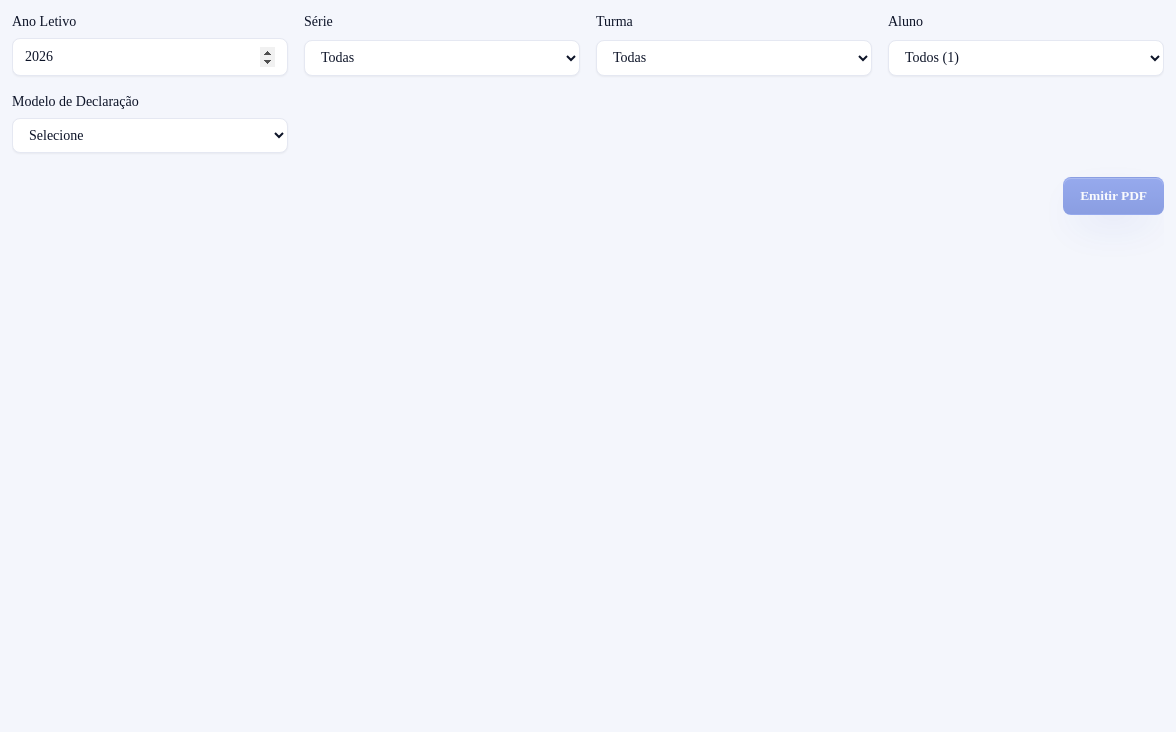
Scenario: DeclaracaoEmissaoForm › emissão para um aluno específico: campos de pré-visualização ficam editáveis
Select "Declaração de Frequência" in the dropdown labelled "Modelo de Declaração" at point(150, 136), box [12, 118, 288, 153]
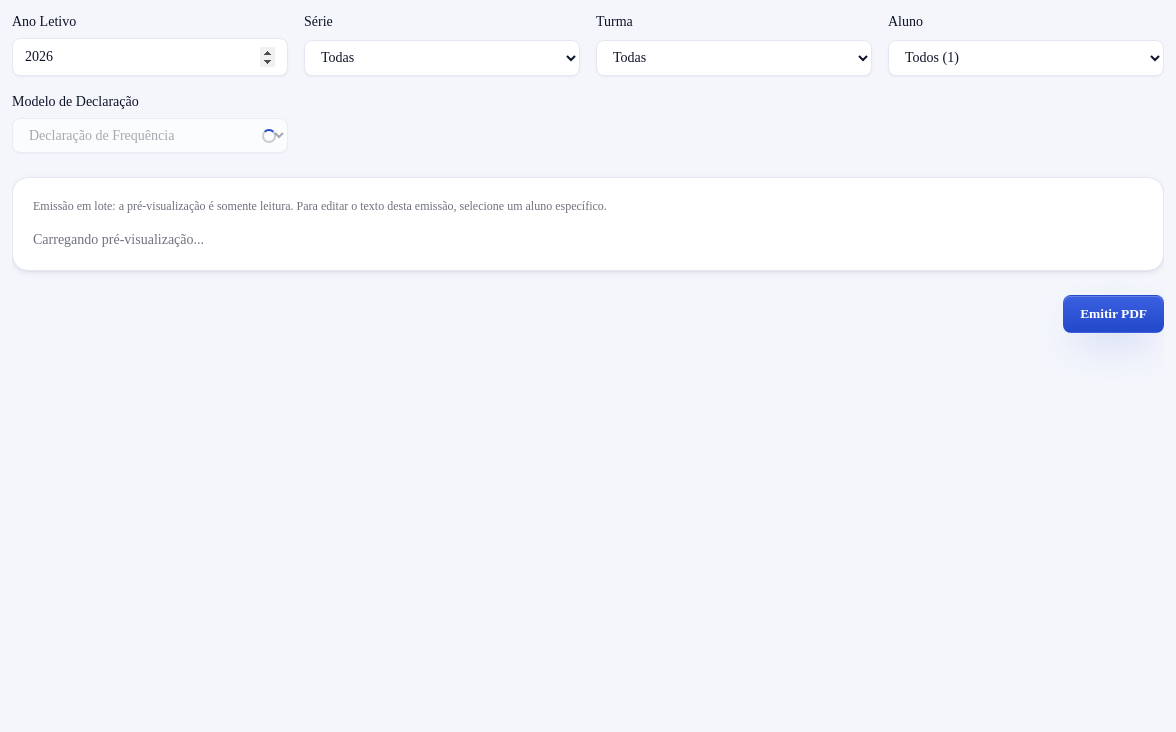
Select "Ana" in the dropdown labelled "Aluno" at point(1026, 58), box [888, 40, 1164, 76]
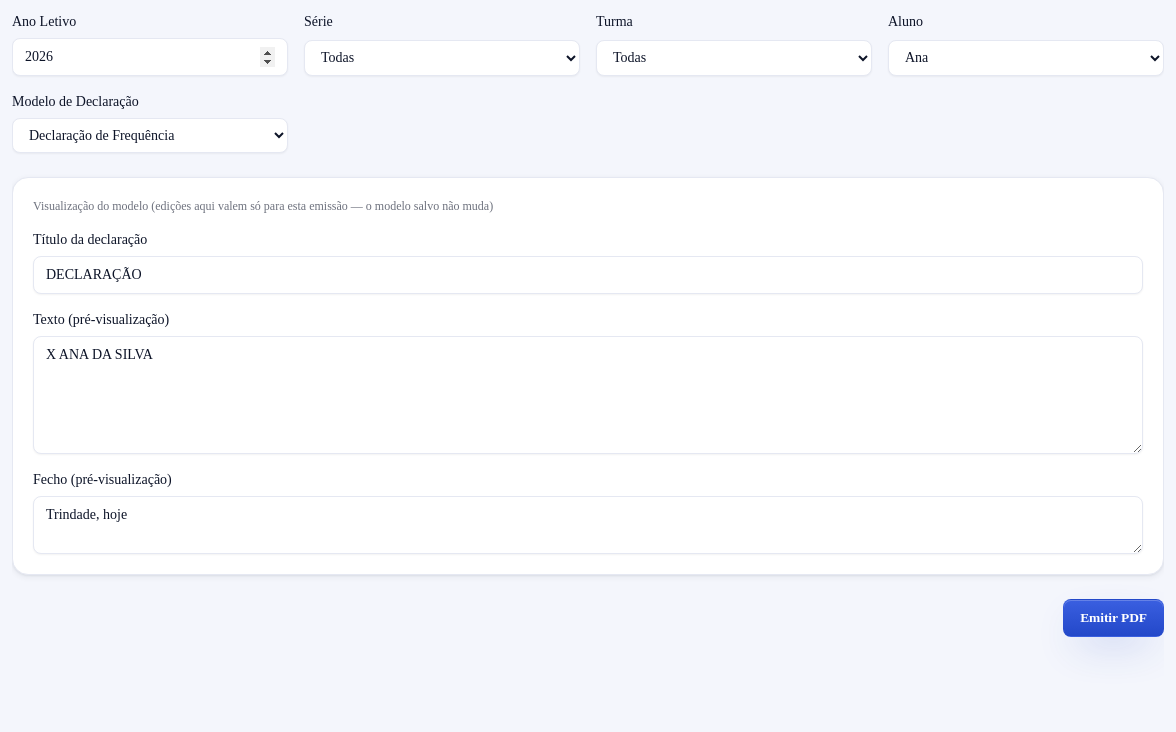
Check: the text box showing "X ANA DA SILVA" is shown, box [33, 336, 1143, 454]
